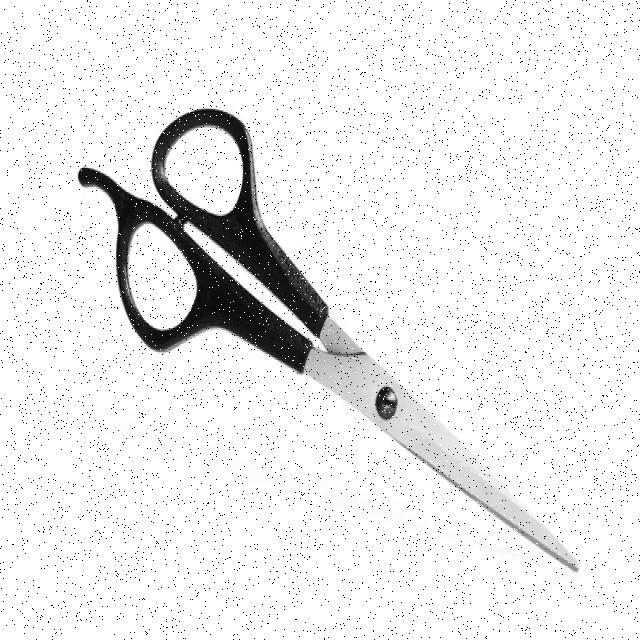scissors: (74, 100, 583, 585)
